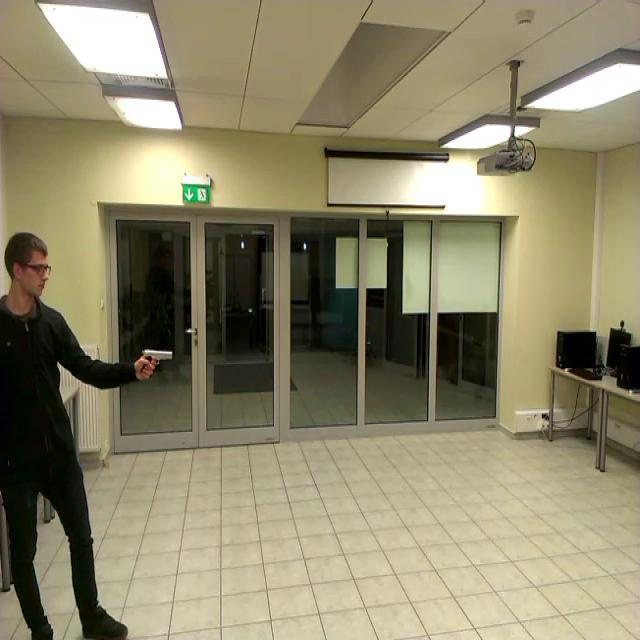Gun: (141, 348, 174, 372)
